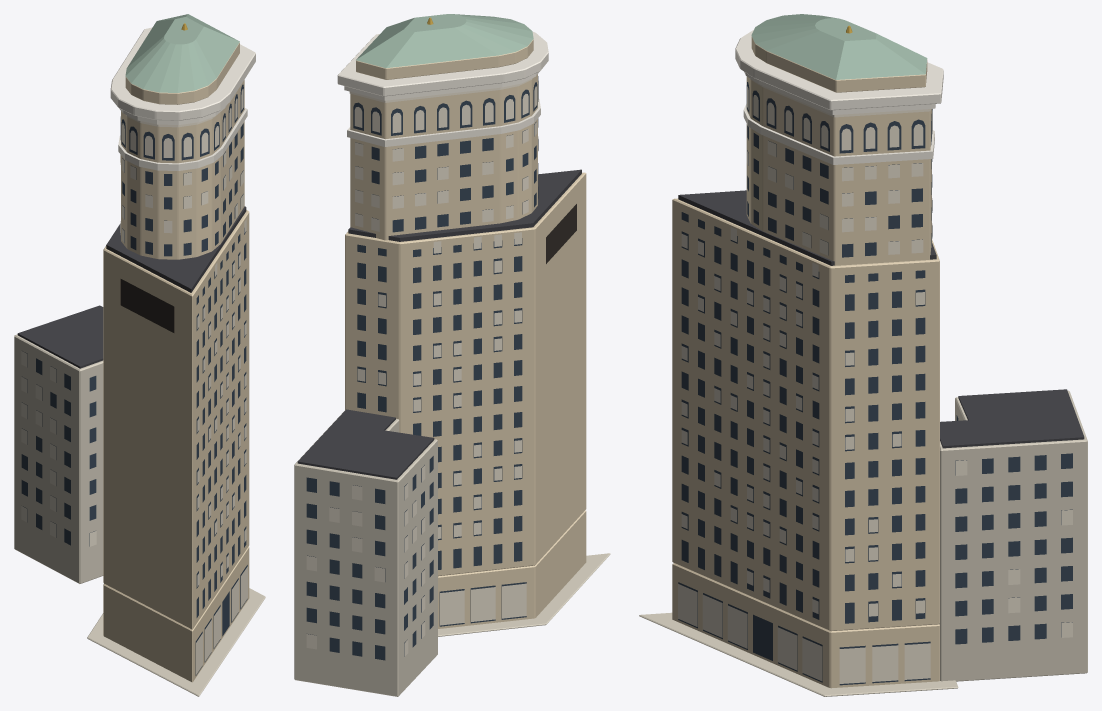
The model's file is 582-market-street.glb.
The picture shows the model from 3 angles, left to right: view 1: azimuth 30°, elevation 25°; view 2: azimuth 150°, elevation 25°; view 3: azimuth 270°, elevation 25°; orthographic projection. The views are drawn at different scales.
Visible parts, largest first — view 1: 582-market-street_body, 582-market-street_night_glow; view 2: 582-market-street_body, 582-market-street_night_glow; view 3: 582-market-street_body, 582-market-street_night_glow.
Boxes of the visible parts, x1,y1,x2,y2 form: 582-market-street_body: [14, 14, 265, 696]; 582-market-street_night_glow: [21, 89, 247, 674]; 582-market-street_body: [294, 14, 610, 696]; 582-market-street_night_glow: [306, 78, 538, 656]; 582-market-street_body: [639, 14, 1087, 696]; 582-market-street_night_glow: [678, 78, 1072, 683].
Bounding box in the file's own units: 27.54 × 87 × 55.83.
